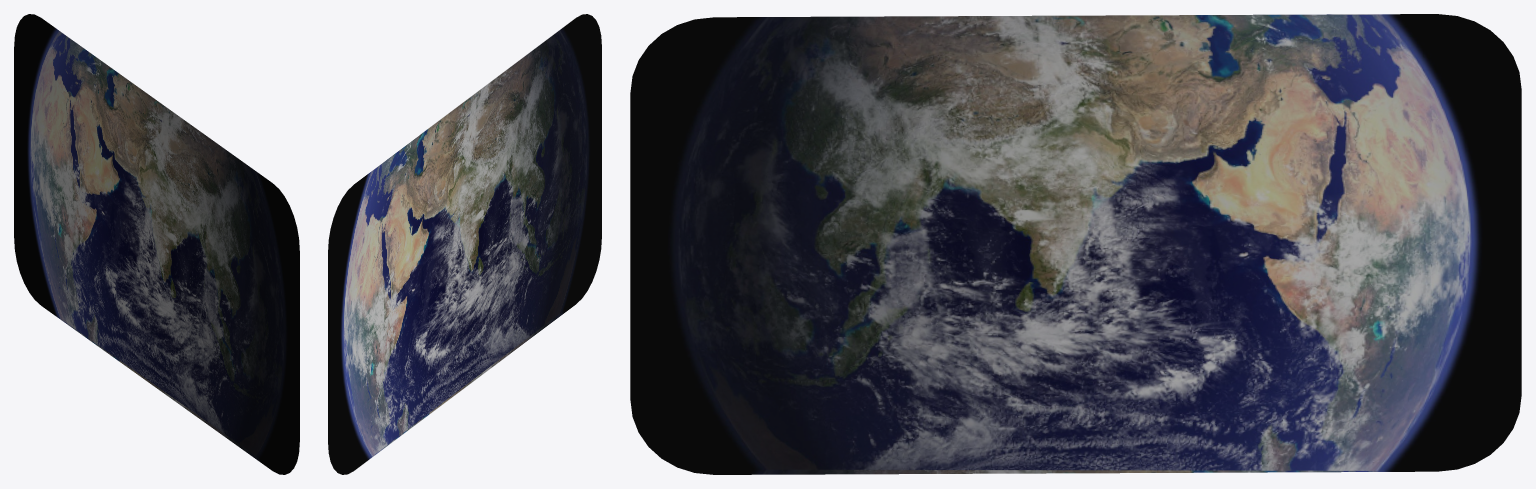
File: earthPic.glb
3 renders of one model, left to right at view 1: azimuth 30°, elevation 25°; view 2: azimuth 150°, elevation 25°; view 3: azimuth 270°, elevation 25°, orthographic. The views are drawn at different scales.
Parts seen in each view (by area): view 1: Cube.090; view 2: Cube.090; view 3: Cube.090.
Part boxes in pixels (<box>): Cube.090: <box>14,14,299,474</box>; Cube.090: <box>328,14,601,474</box>; Cube.090: <box>630,14,1521,474</box>.
Bounding box in the file's own units: 0.0753 × 3.99 × 7.04.
Materials: 1 (1 with a texture image).
